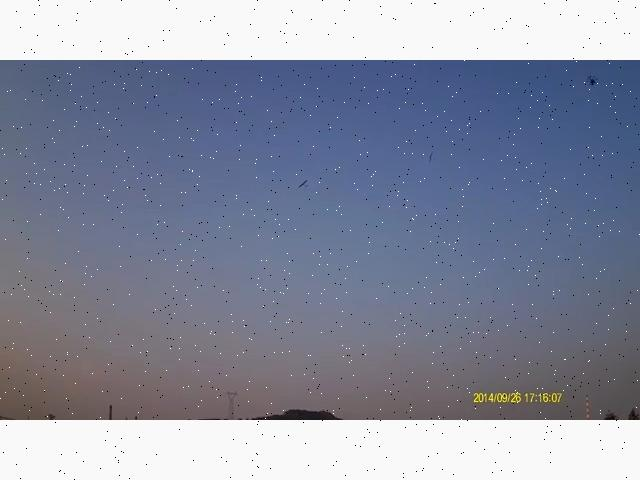Anti-Drone: (420, 146, 450, 174)
